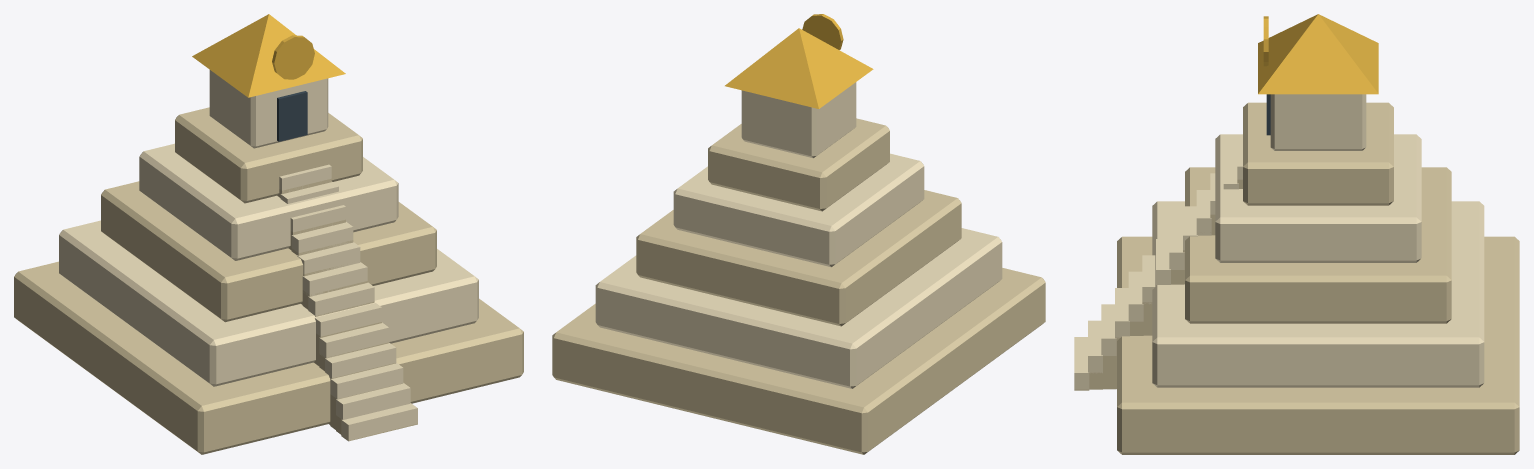
The model's file is monument-ziggurat.glb.
The picture shows the model from 3 angles, left to right: view 1: azimuth 30°, elevation 25°; view 2: azimuth 150°, elevation 25°; view 3: azimuth 270°, elevation 25°; orthographic projection. The views are drawn at different scales.
Visible parts, largest first — view 1: Cube; view 2: Cube; view 3: Cube.
Boxes of the visible parts, bbox=[...] form: Cube: bbox=[14, 14, 523, 454]; Cube: bbox=[552, 14, 1045, 454]; Cube: bbox=[1074, 14, 1519, 454].
Size of the model in its own units: 0.8 by 0.786 by 0.885.
